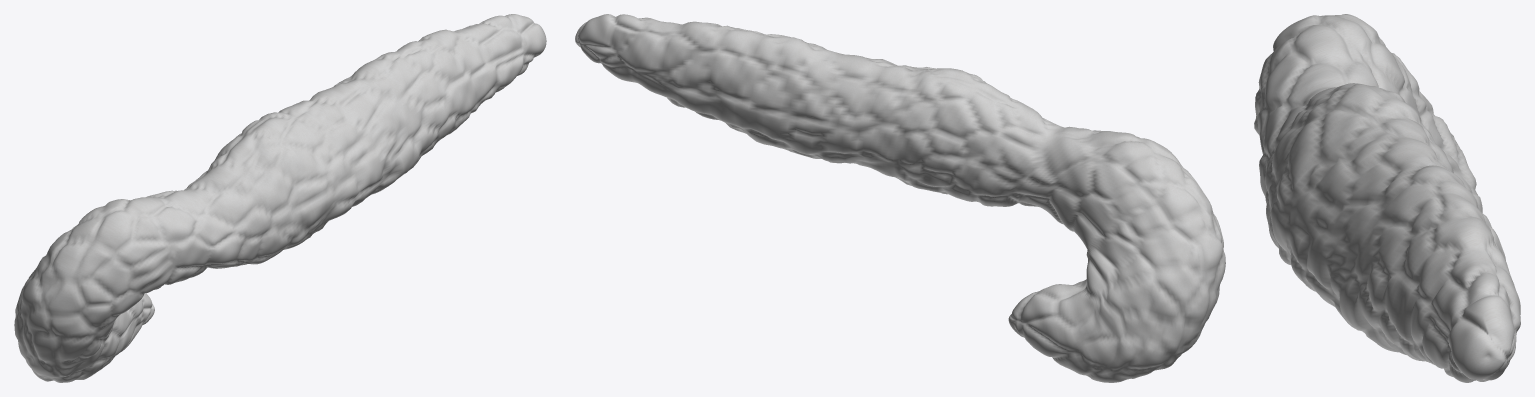
File: original-regions.glb
The picture shows the model from 3 angles, left to right: view 1: azimuth 30°, elevation 25°; view 2: azimuth 150°, elevation 25°; view 3: azimuth 270°, elevation 25°; orthographic projection. The views are drawn at different scales.
Visible parts, largest first — view 1: Pancreas; view 2: Pancreas; view 3: Pancreas.
Boxes of the visible parts, box(x1,y1,x2,y2) form: Pancreas: box(14, 14, 546, 382); Pancreas: box(575, 14, 1225, 382); Pancreas: box(1254, 14, 1520, 382).
Bounding box in the file's own units: 0.1614 × 0.0683 × 0.0411.
1 material, 1 textured.
